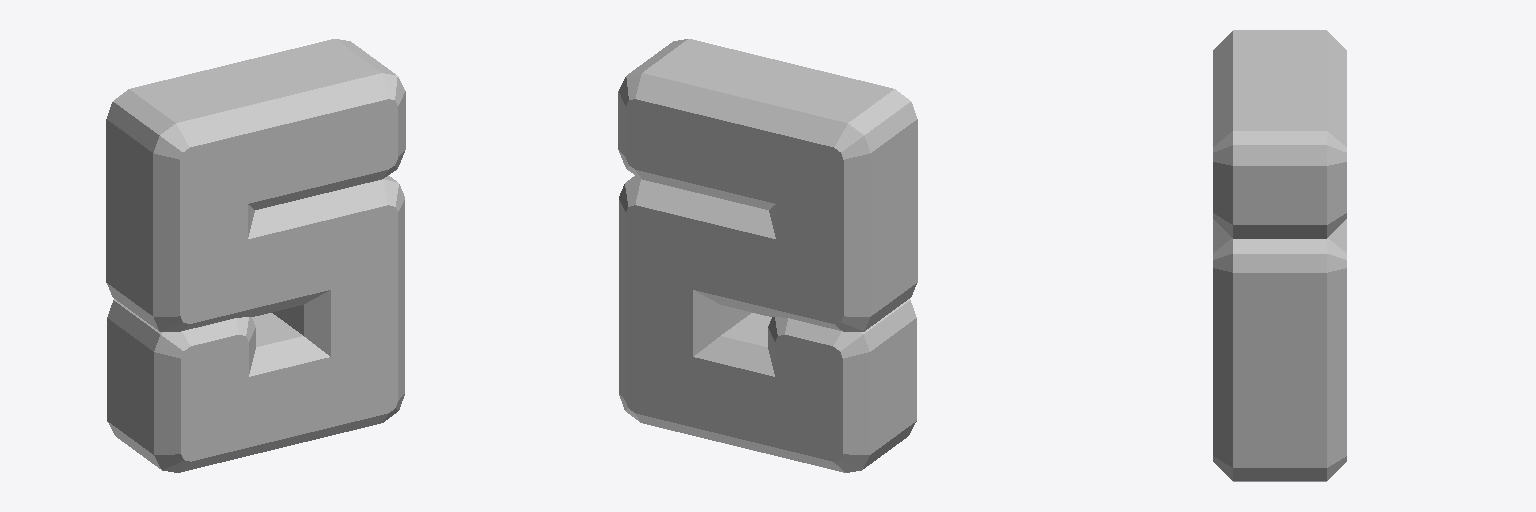
Rendered from fullStomach5.obj.
3 renders of one model, left to right at view 1: azimuth 30°, elevation 25°; view 2: azimuth 150°, elevation 25°; view 3: azimuth 270°, elevation 25°, orthographic.
Parts seen in each view (by area): view 1: テキスト; view 2: テキスト; view 3: テキスト.
Boxes of the visible parts, x1,y1,x2,y2 form: テキスト: [106, 39, 405, 472]; テキスト: [618, 39, 917, 472]; テキスト: [1213, 30, 1346, 481].
Size of the model in its own units: 1.61 by 2.14 by 0.74.